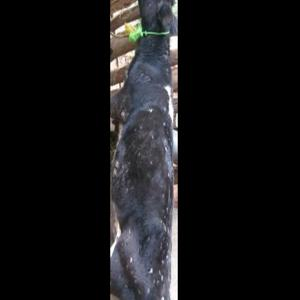lumpy skin diesease: (109, 0, 177, 299)
